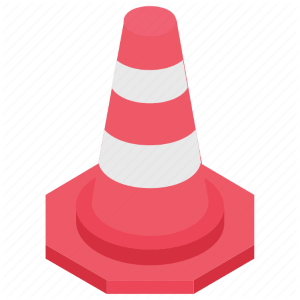traffic cone: (45, 5, 255, 294)
